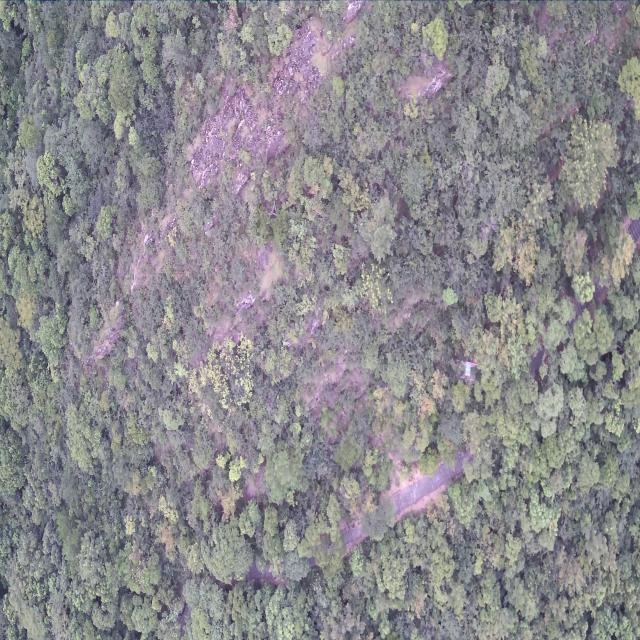UAV: (460, 358, 478, 385)
